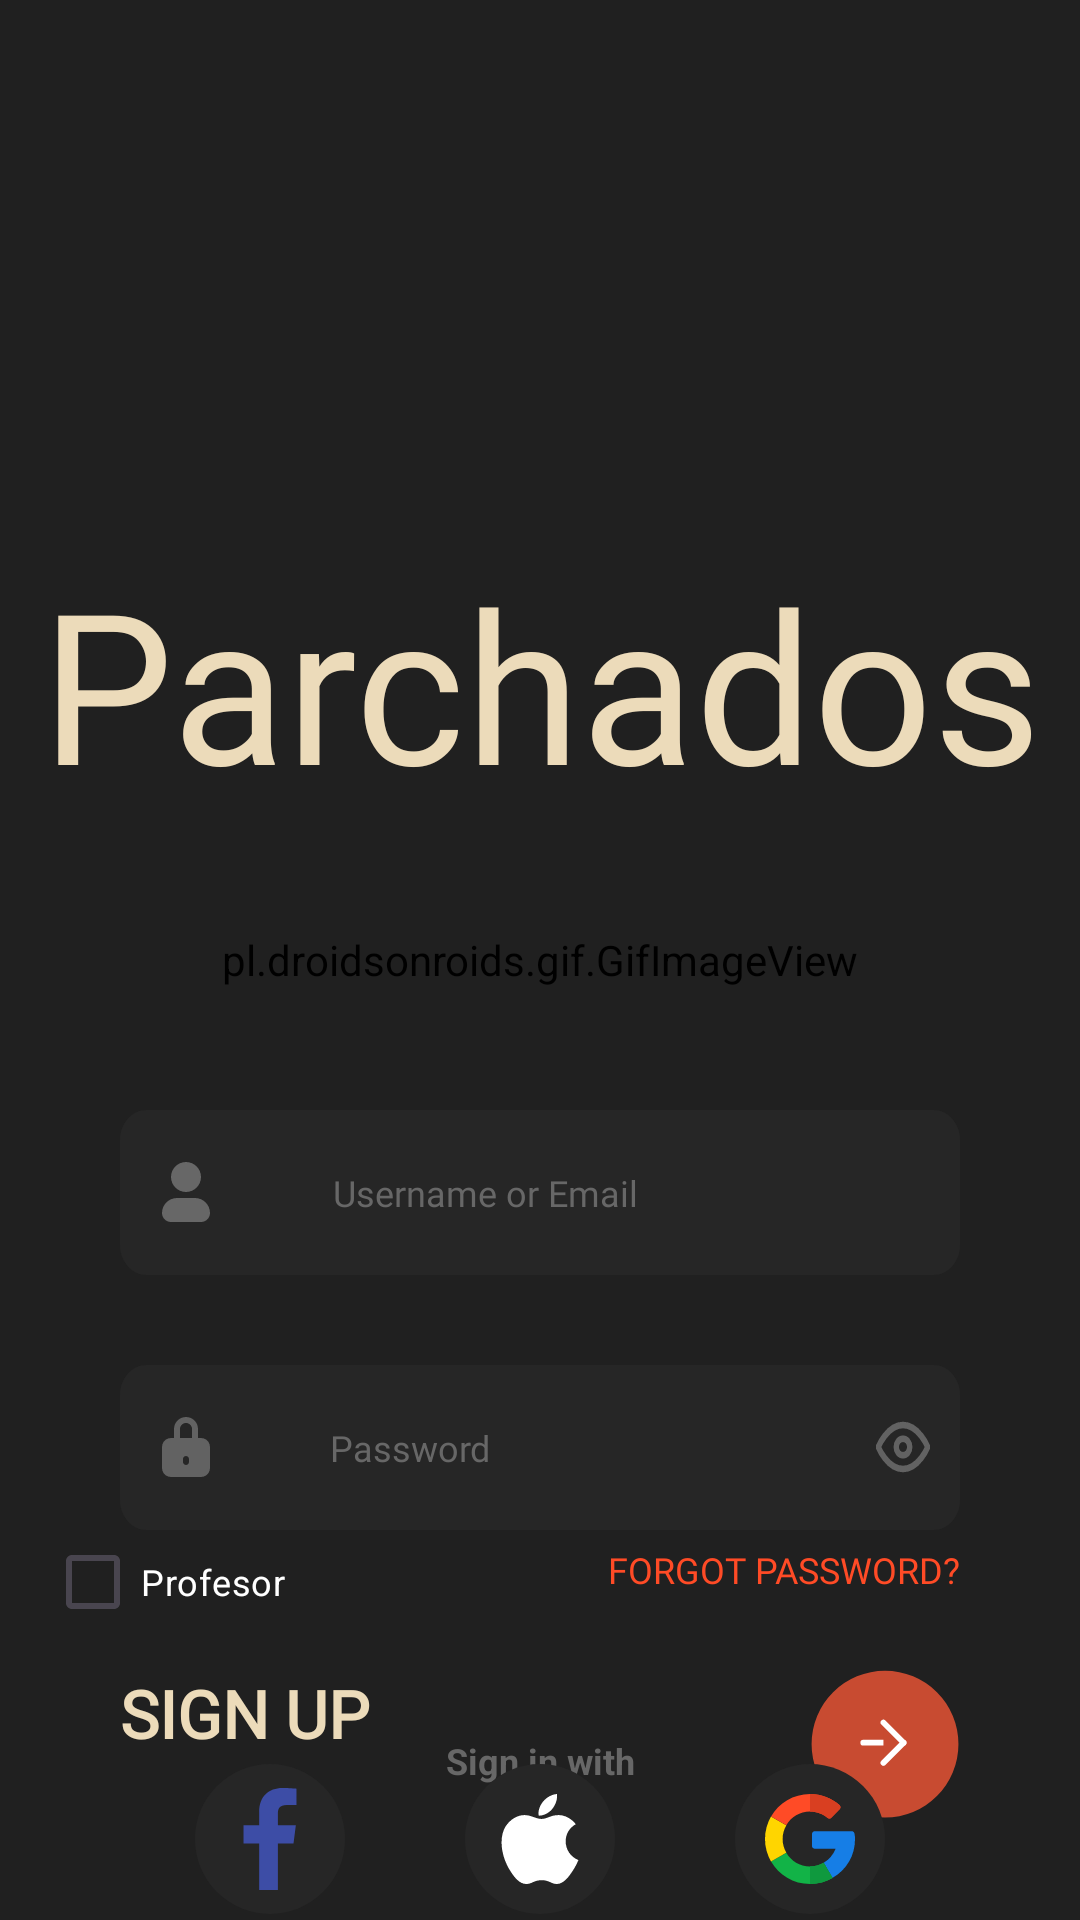

Screen size 1080×1920. Icon name, then its center in pixels as [x,y]:
eye: [903,1447]
next: [885,1744]
